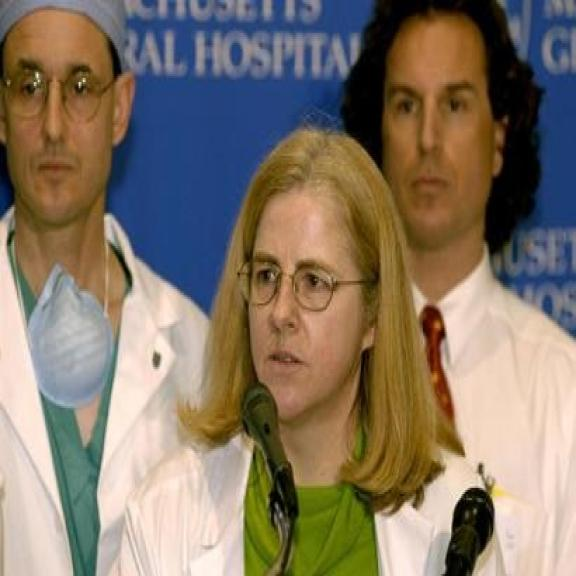face: (246, 177, 389, 425), (0, 22, 145, 235), (386, 11, 510, 243)
